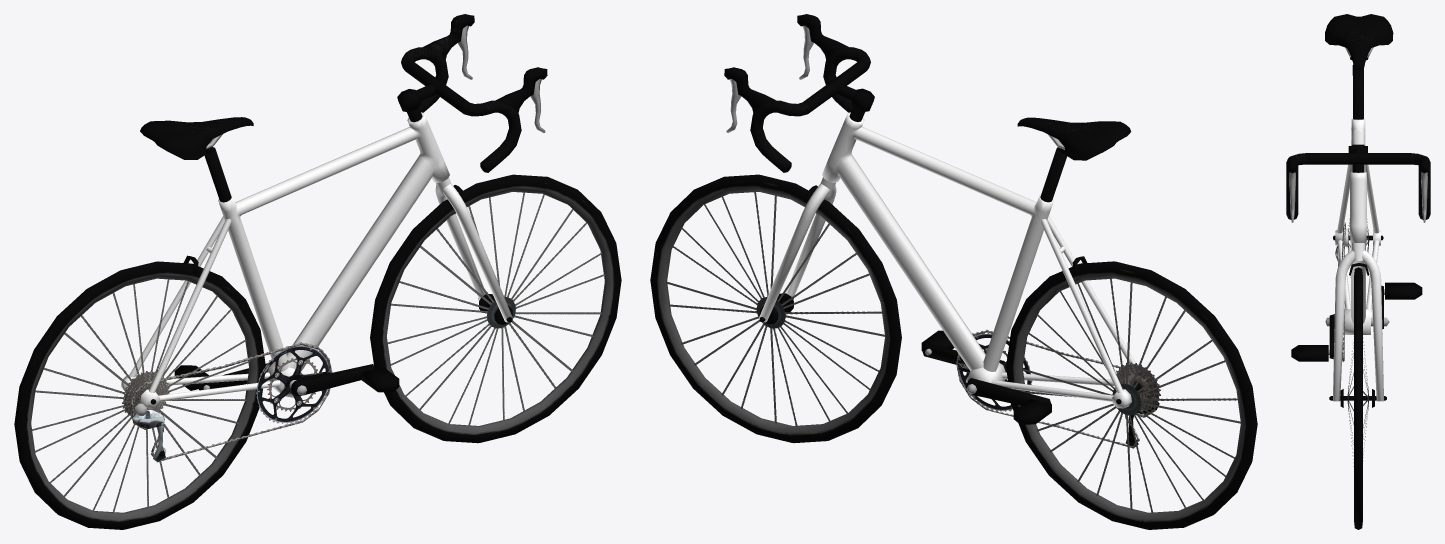
Rendered from vehicle_bicycle_diamondback_century.glb.
3 views of the same model, side by side, from view 1: azimuth 30°, elevation 25°; view 2: azimuth 150°, elevation 25°; view 3: azimuth 270°, elevation 25° (orthographic). The views are drawn at different scales.
Visible parts, largest first — view 1: body, wheel_f, wheel_r, handlebar, pedals_geo, right_pedal_geo; view 2: body, wheel_f, wheel_r, handlebar, pedals_geo, left_pedal_geo; view 3: body, handlebar, wheel_f, left_pedal_geo, right_pedal_geo, pedals_geo.
Boxes of the visible parts, <box> form: body: <box>121,112,449,462</box>; wheel_f: <box>370,174,621,443</box>; wheel_r: <box>14,261,265,529</box>; handlebar: <box>397,14,547,324</box>; pedals_geo: <box>198,345,374,423</box>; right_pedal_geo: <box>361,367,399,392</box>; body: <box>822,112,1160,448</box>; wheel_f: <box>650,174,901,443</box>; wheel_r: <box>1006,261,1257,529</box>; handlebar: <box>724,14,874,324</box>; pedals_geo: <box>922,333,1051,411</box>; left_pedal_geo: <box>1013,399,1051,424</box>; body: <box>1325,14,1393,361</box>; handlebar: <box>1286,144,1430,407</box>; wheel_f: <box>1347,267,1368,529</box>; left_pedal_geo: <box>1385,282,1422,299</box>; right_pedal_geo: <box>1291,345,1328,361</box>; pedals_geo: <box>1325,285,1389,359</box>.
Size of the model in its own units: 1.64 by 1.02 by 0.3725.
2 materials, 1 textured.
